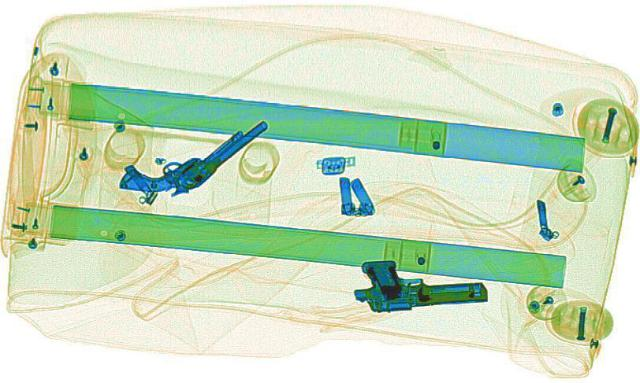Gun: (103, 100, 274, 207), (342, 252, 490, 313)
